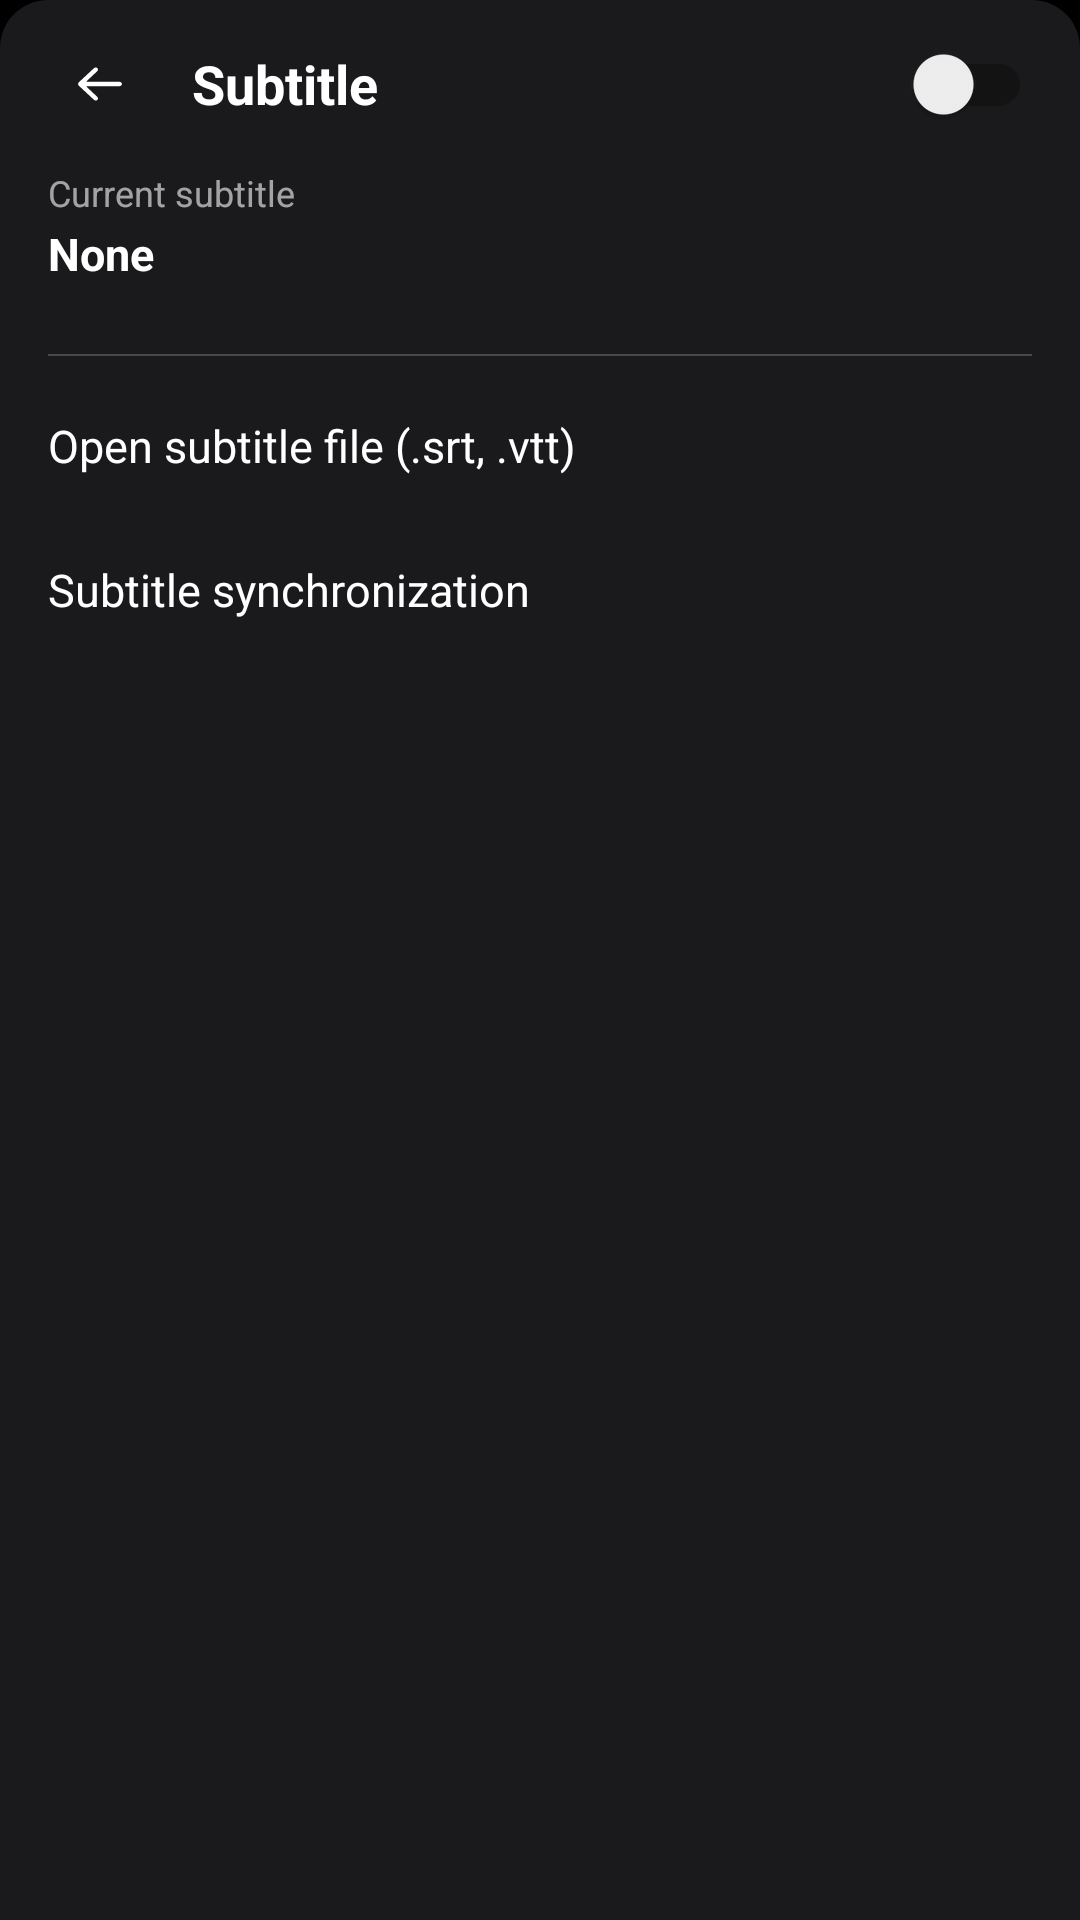

Locate icon controls on the screen. Image size 1080 × 1920, boxes as (x1, y1, x2, y2).
back: (78, 67, 122, 101)
